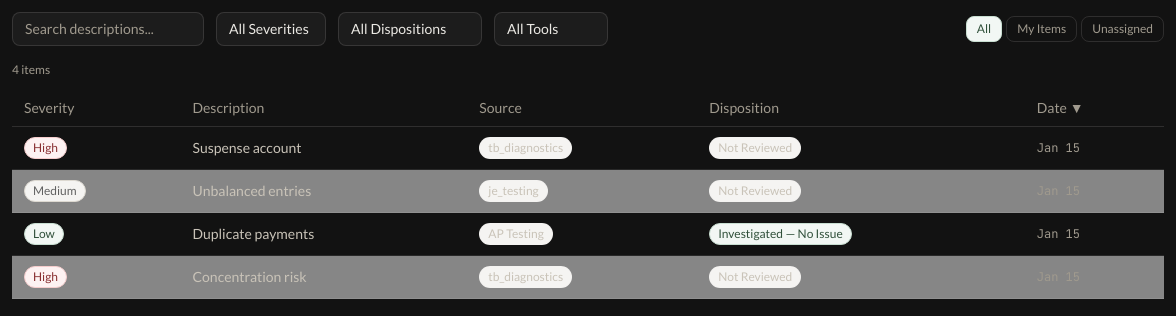
Test: FollowUpItemsTable › shows sort indicators on column header click
The image size is (1176, 316).
Note: Click severity column header to toggle sort
Step 1. Click the column heading "Severity" → point(49, 108), box [12,90,180,126]
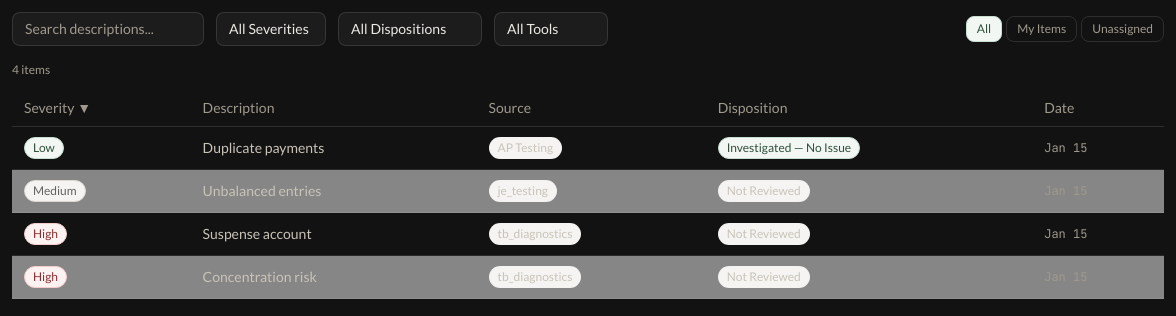
Check: the column heading "Severity ▼" is shown, box [12,90,191,126]
